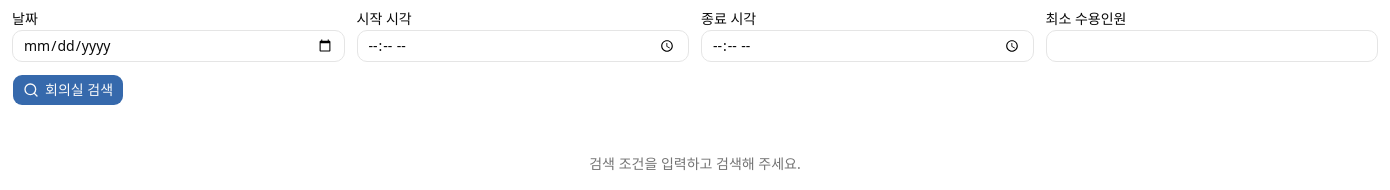
MeetingRoomSearchAndSelect - 빈 결과/에러 › 조건에 맞는 회의실이 없으면 안내 문구를 노출한다
Type "2026-07-10" into the date field labelled "날짜" at (178, 46), box [12,30,344,62]
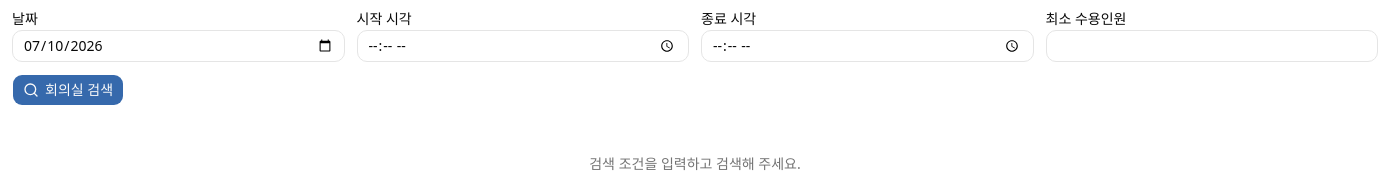
Type "10:00" into the time field labelled "시작 시각" at (523, 46), box [356,30,689,62]
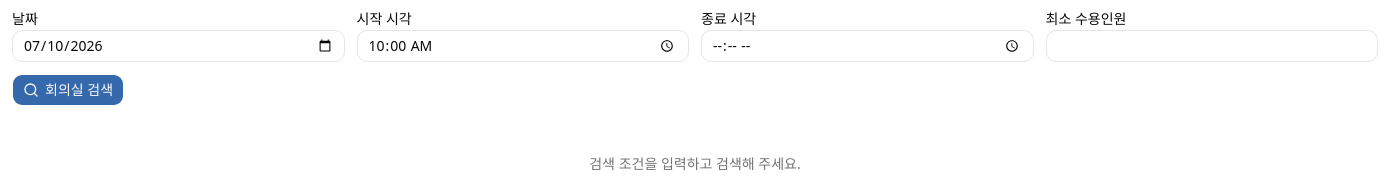
Type "11:00" into the time field labelled "종료 시각" at (867, 46), box [701,30,1034,62]
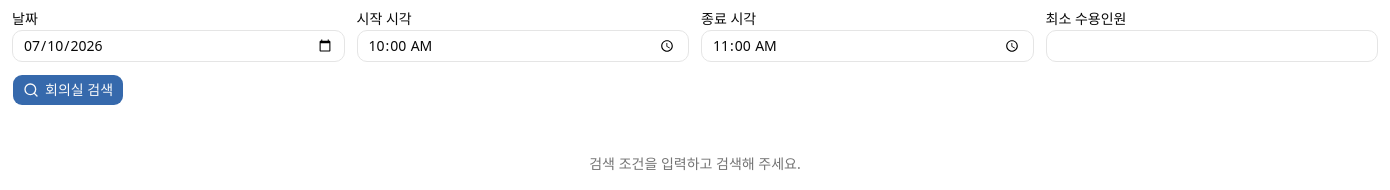
Type "4" into the number field labelled "최소 수용인원" at (1212, 46), box [1046,30,1378,62]
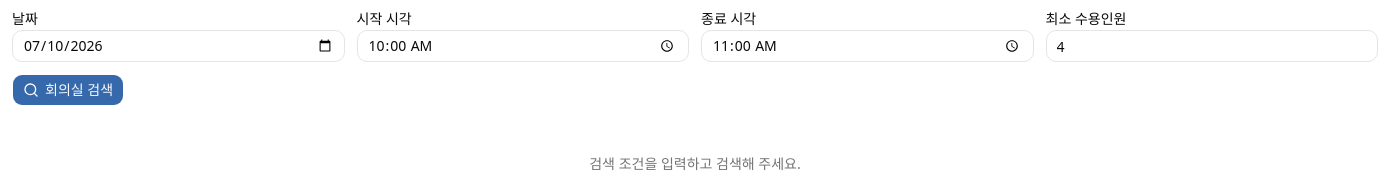
Click the button "회의실 검색" at (68, 90), box [12,74,124,106]
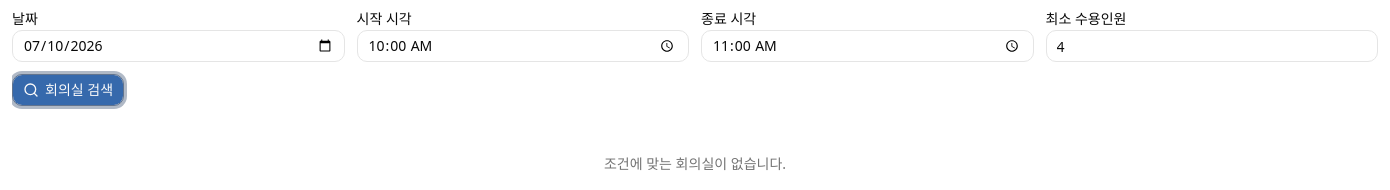
Expected: the text "조건에 맞는 회의실이 없습니다." is shown, [604,154,786,173]
